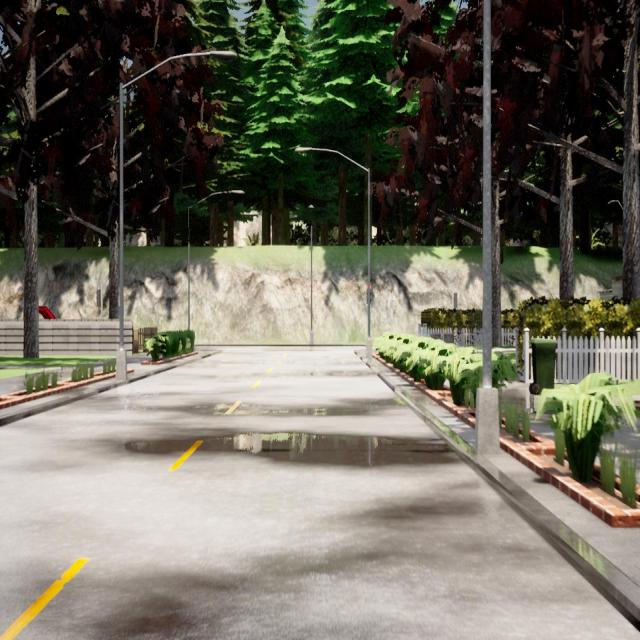traffic_light: (366, 284, 372, 303)
